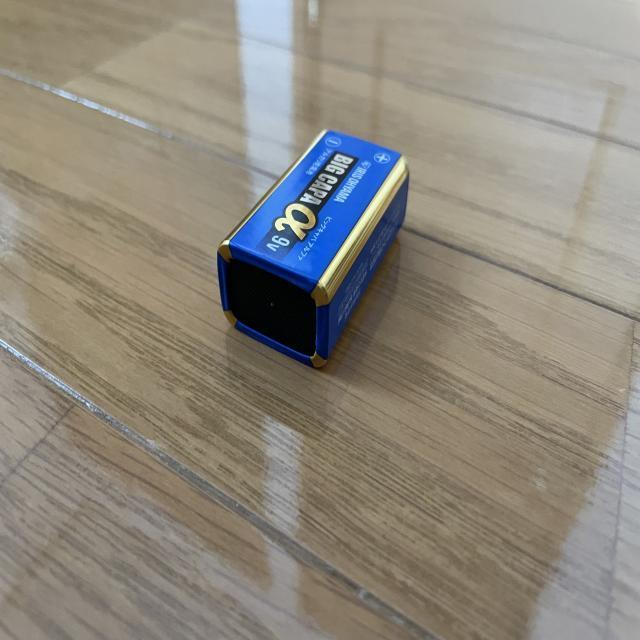9V: (219, 131, 411, 363)
